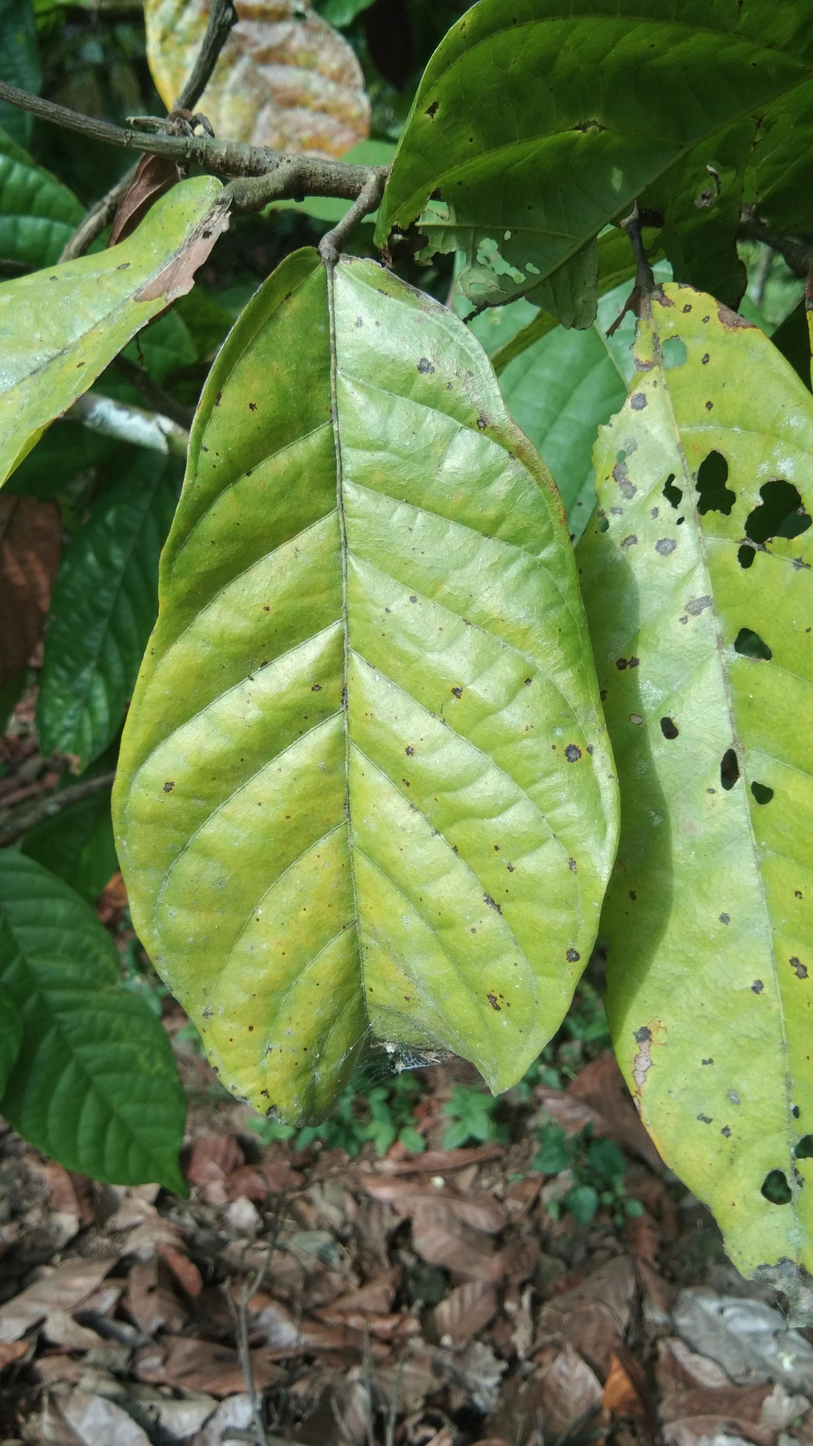deficiencia_potasio: (111, 268, 653, 1171)
